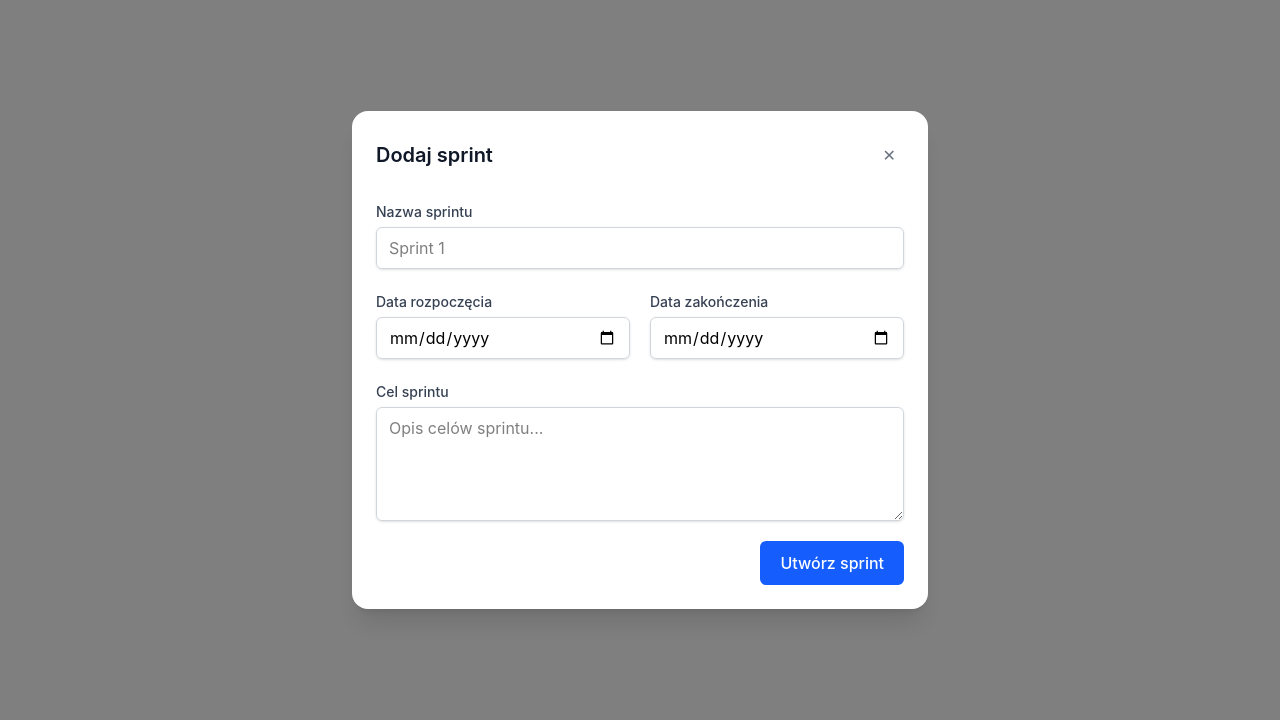
Scenario: AddProjectSprintModal › powinien elegancko obsłużyć błąd serwera
Type "Sprint" into the field.
click(640, 248); type("Sprint")  # box [376,227,904,269]
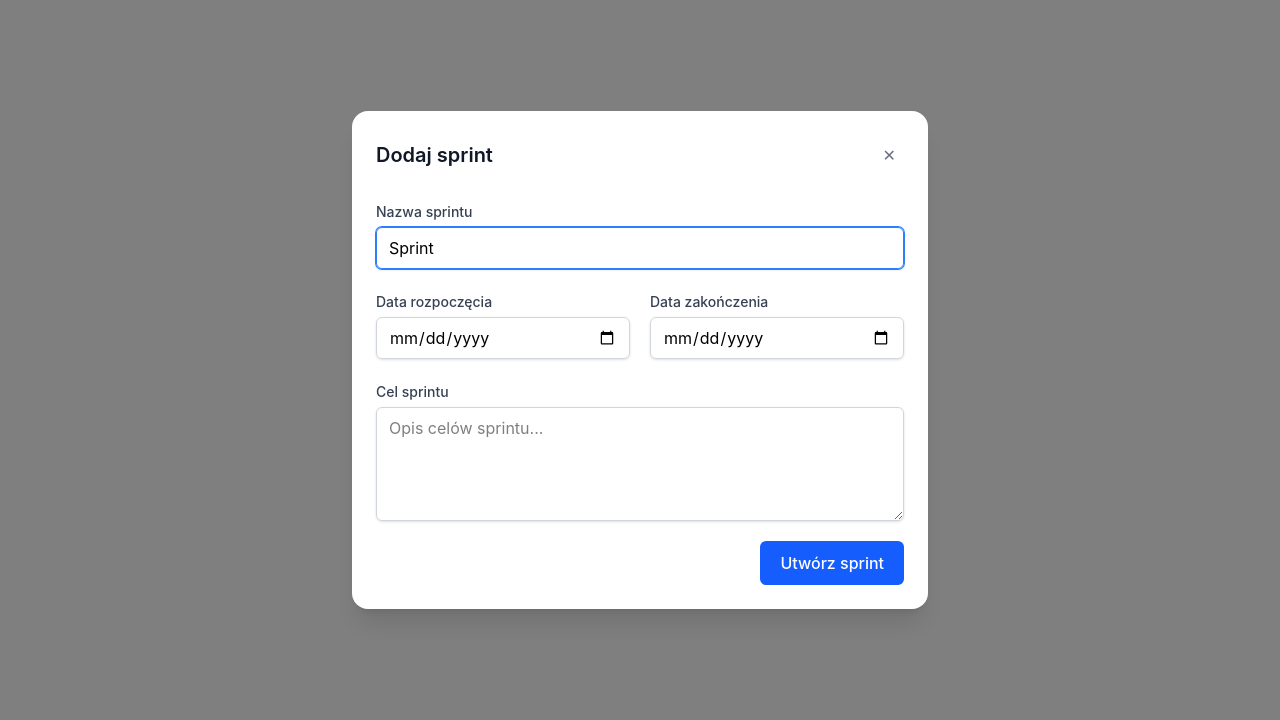
Type "2026-10-10" into the date field named "startDate" below "Data rozpoczęcia".
click(503, 338); type("2026-10-10")  # box [376,317,630,359]
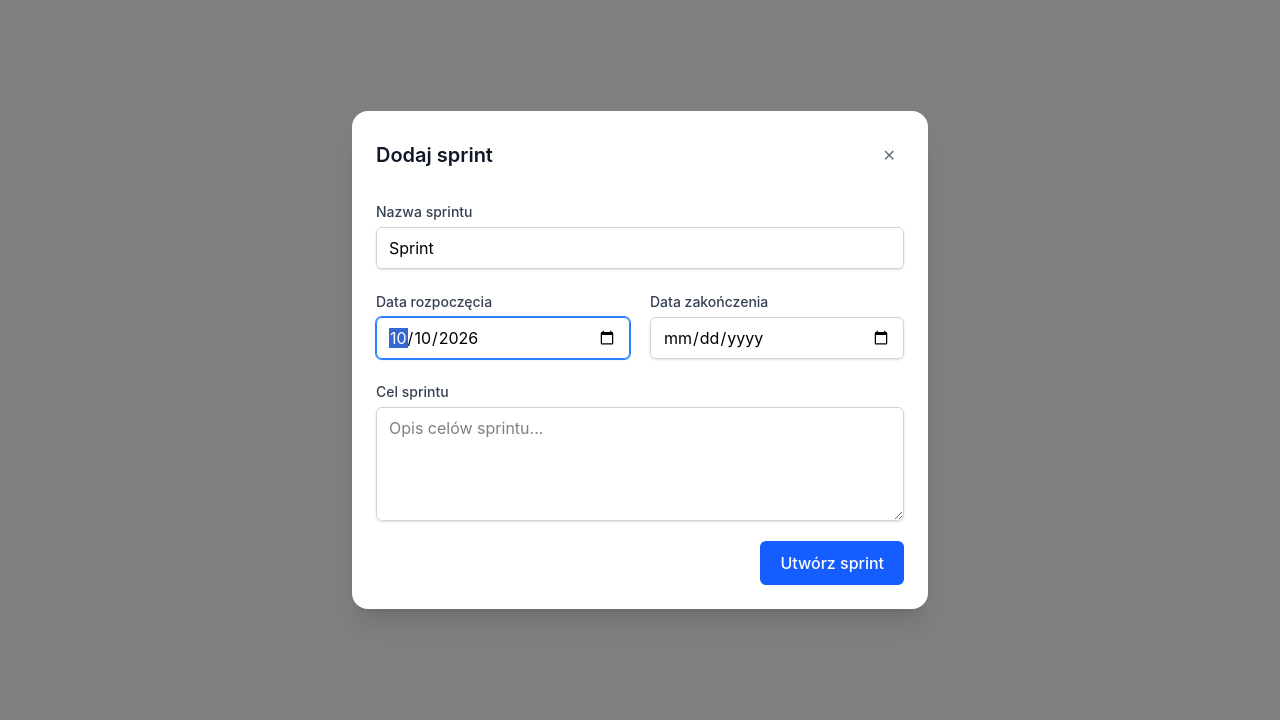
Type "2026-10-20" into the date field named "endDate" below "Data zakończenia".
click(777, 338); type("2026-10-20")  # box [650,317,904,359]
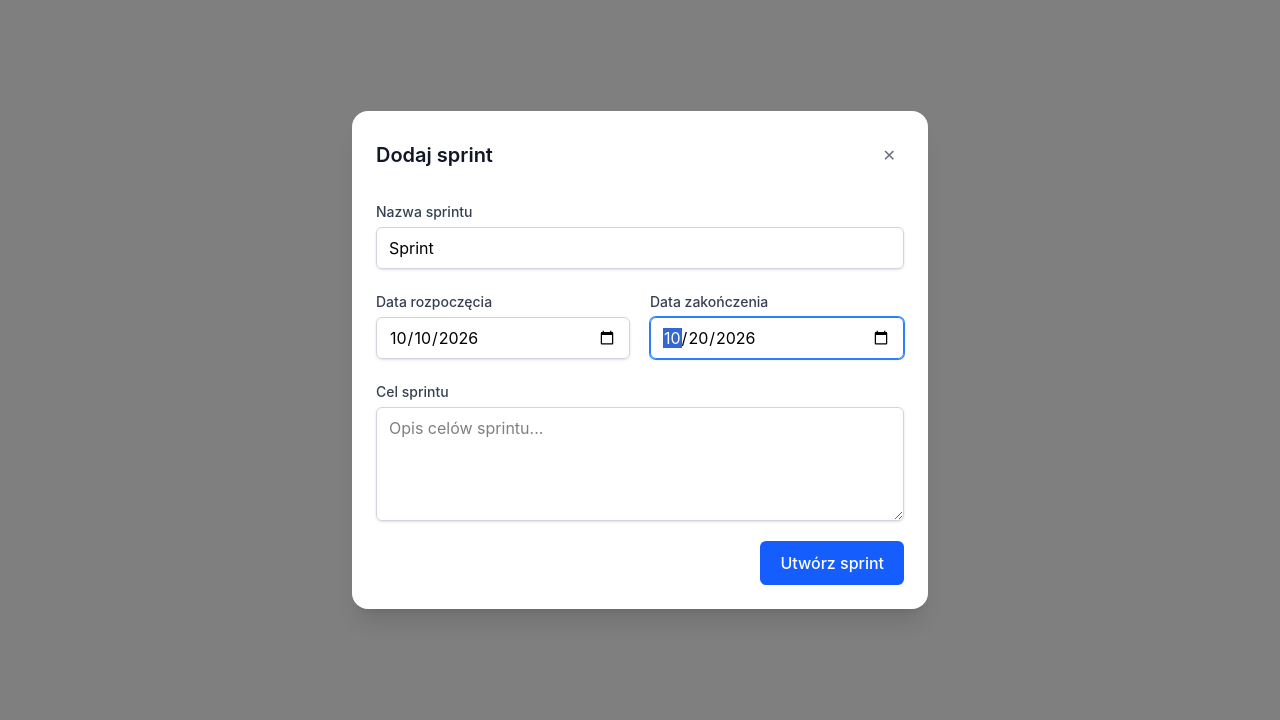
Click the button "Utwórz sprint".
click(832, 563)  # box [760,541,904,585]
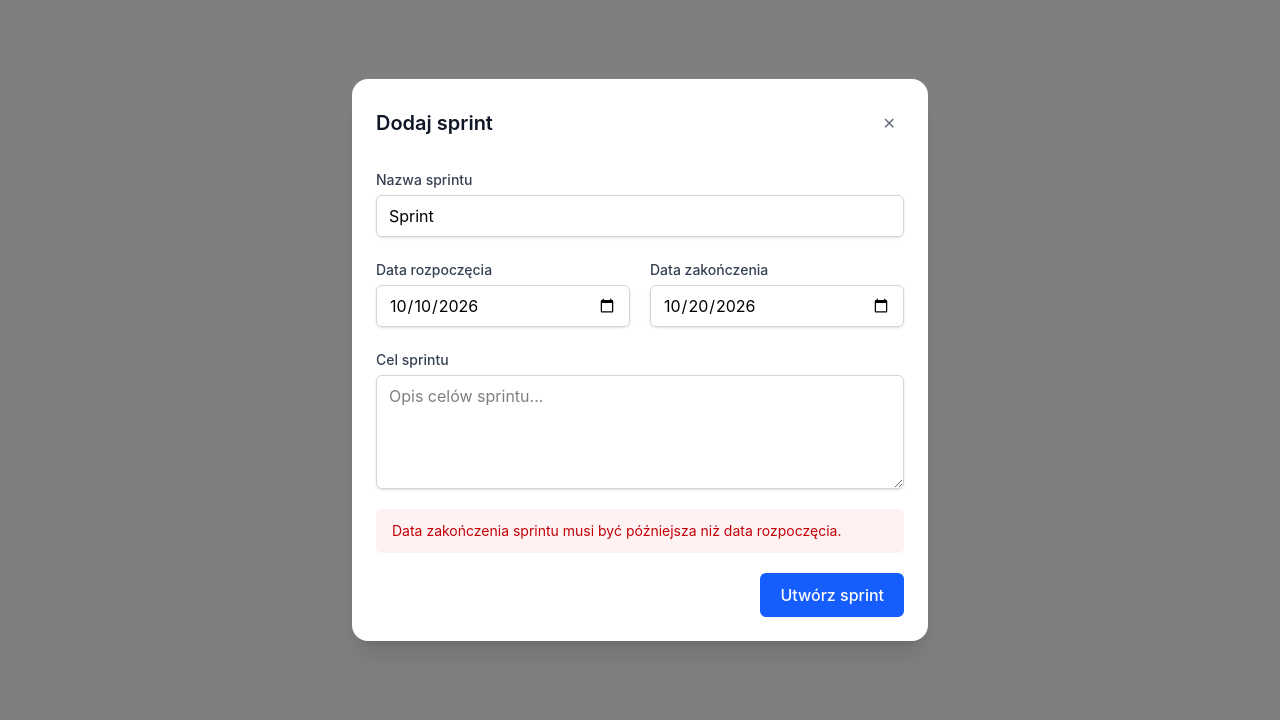
expect the text "Data zakończenia sprintu musi być późniejsza niż data rozpoczęcia." is shown: met, box [376,509,904,553]
